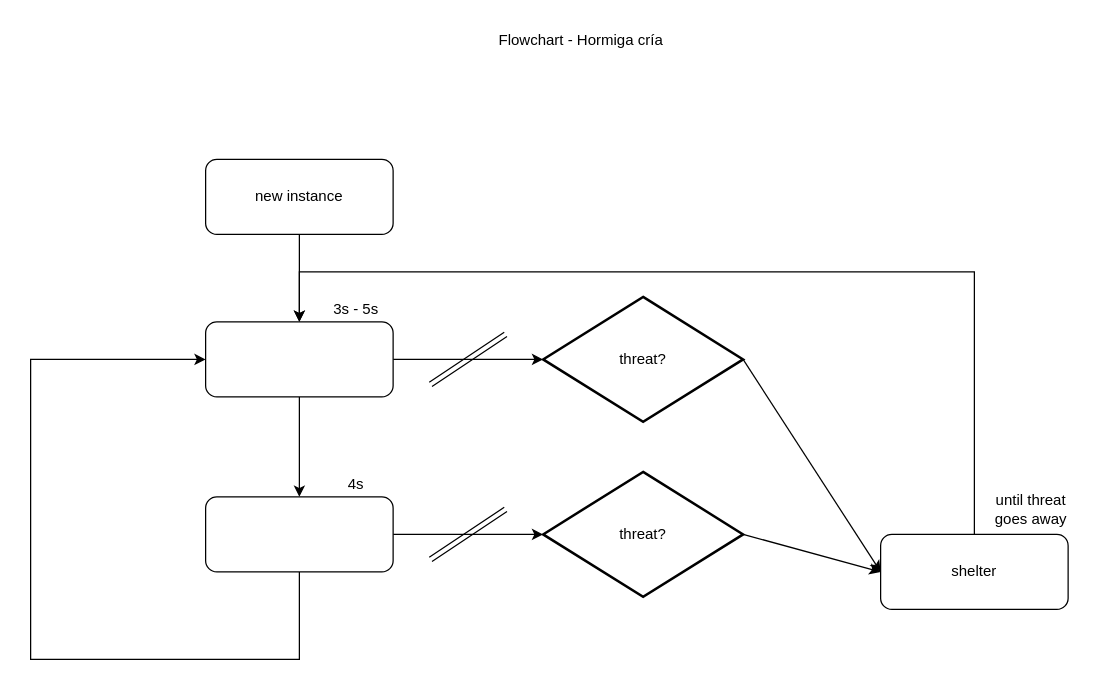
Image size: 1103x691. Some labels were removed from this diagram. Each missing label, with the centre of its shape:
"get to EATING ZONE" belongs at point (298, 359).
"rest at REST ZONE" belongs at point (298, 534).
